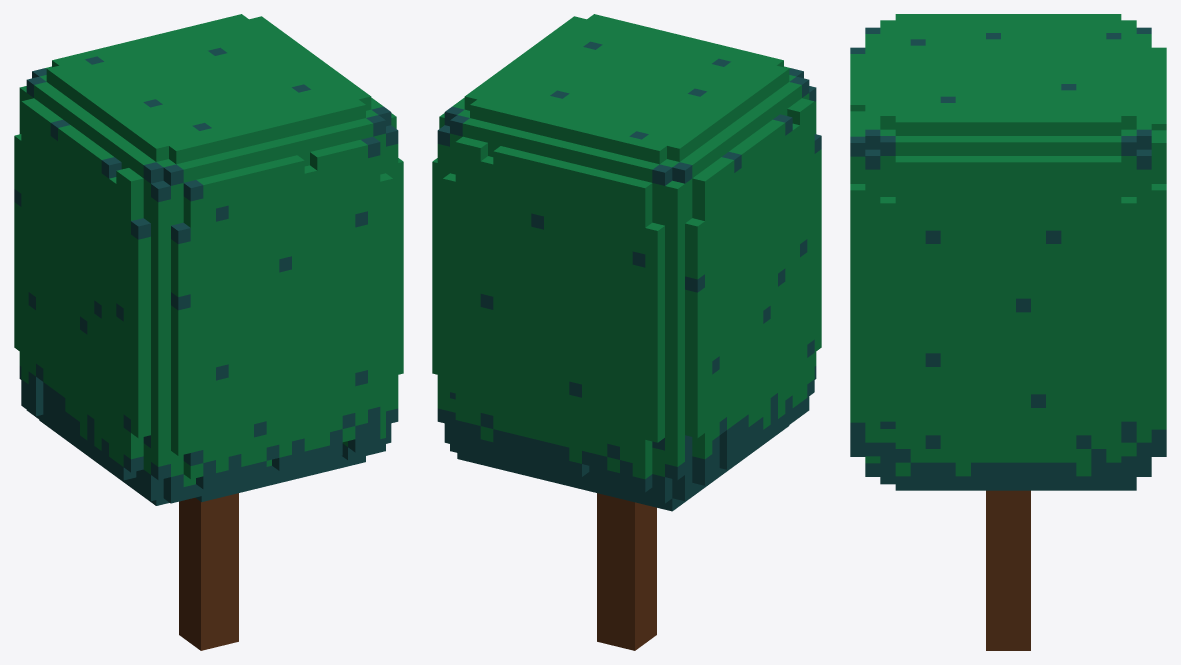
Rendered from HedgeTreeShort.fbx.
The picture shows the model from 3 angles, left to right: view 1: azimuth 30°, elevation 25°; view 2: azimuth 150°, elevation 25°; view 3: azimuth 270°, elevation 25°; orthographic projection. The views are drawn at different scales.
Visible parts, largest first — view 1: HedgeTreeShort; view 2: HedgeTreeShort; view 3: HedgeTreeShort.
Part boxes in pixels (left/top/right/bottom): HedgeTreeShort: left=14, top=14, right=403, bottom=650; HedgeTreeShort: left=432, top=14, right=821, bottom=650; HedgeTreeShort: left=850, top=14, right=1166, bottom=650.
Bounding box in the file's own units: 210 × 420 × 210.
